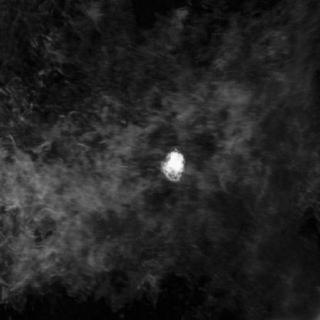Fire: (0, 39, 317, 319)
